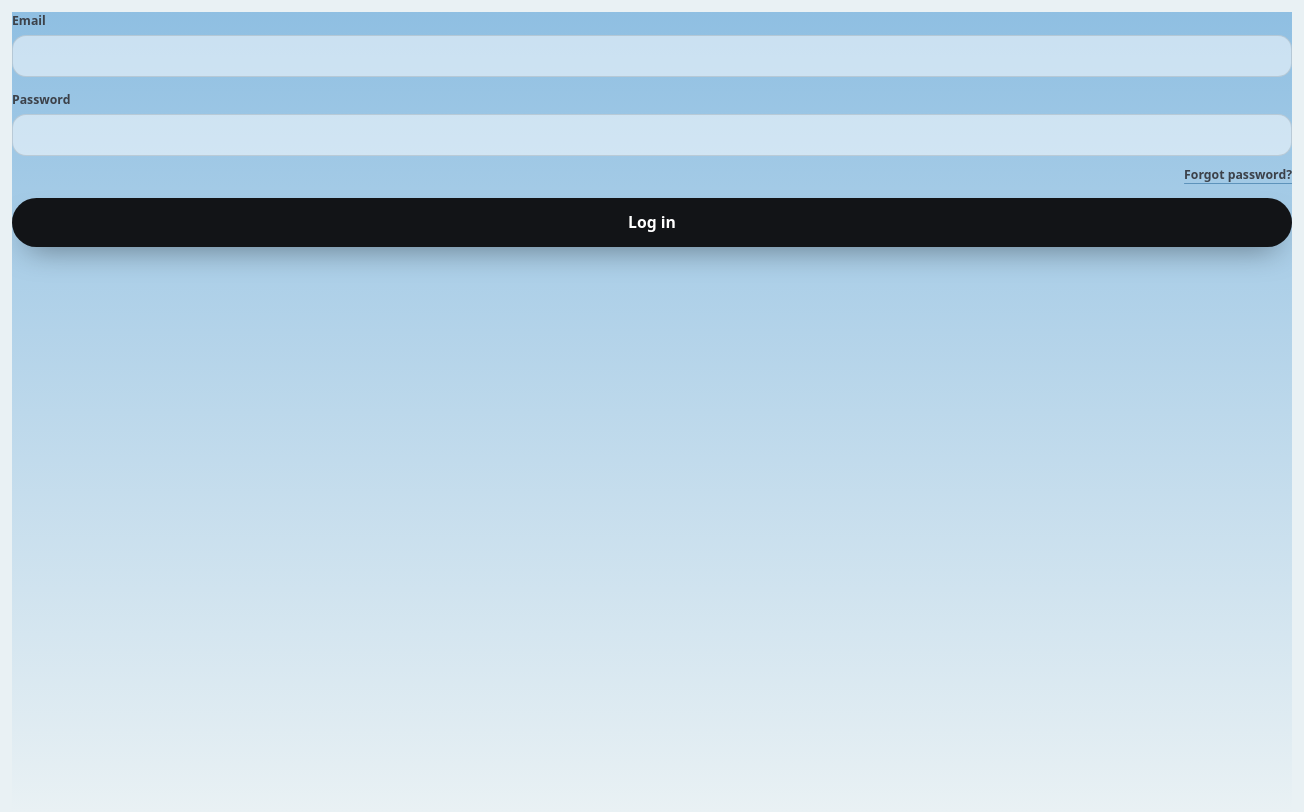
Scenario: LoginForm › logs in and follows a safe ?next= path
Type "demo@tripwise.app" into the field labelled "Email". click: point(652, 56)
box: [12,35,1292,77]
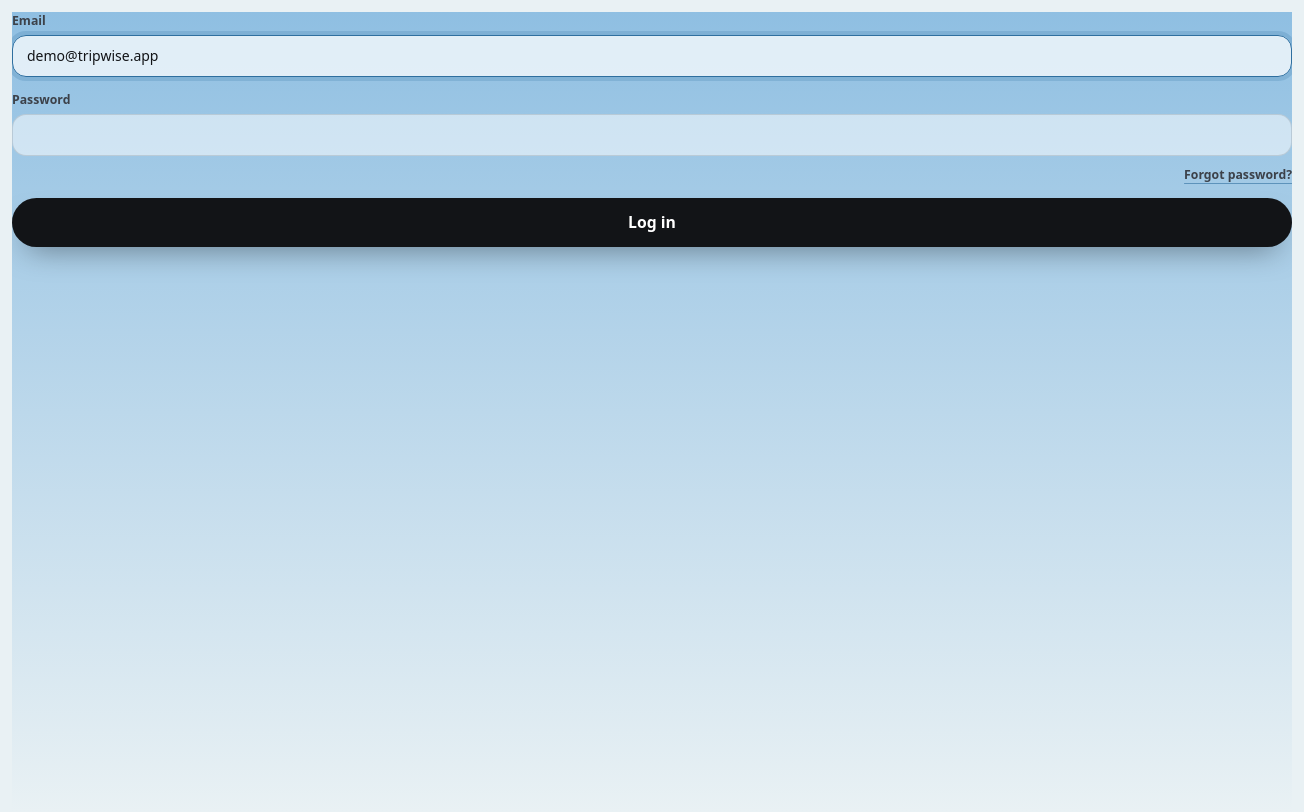
Type "password123" into the password field labelled "Password". click: point(652, 134)
box: [12,114,1292,156]
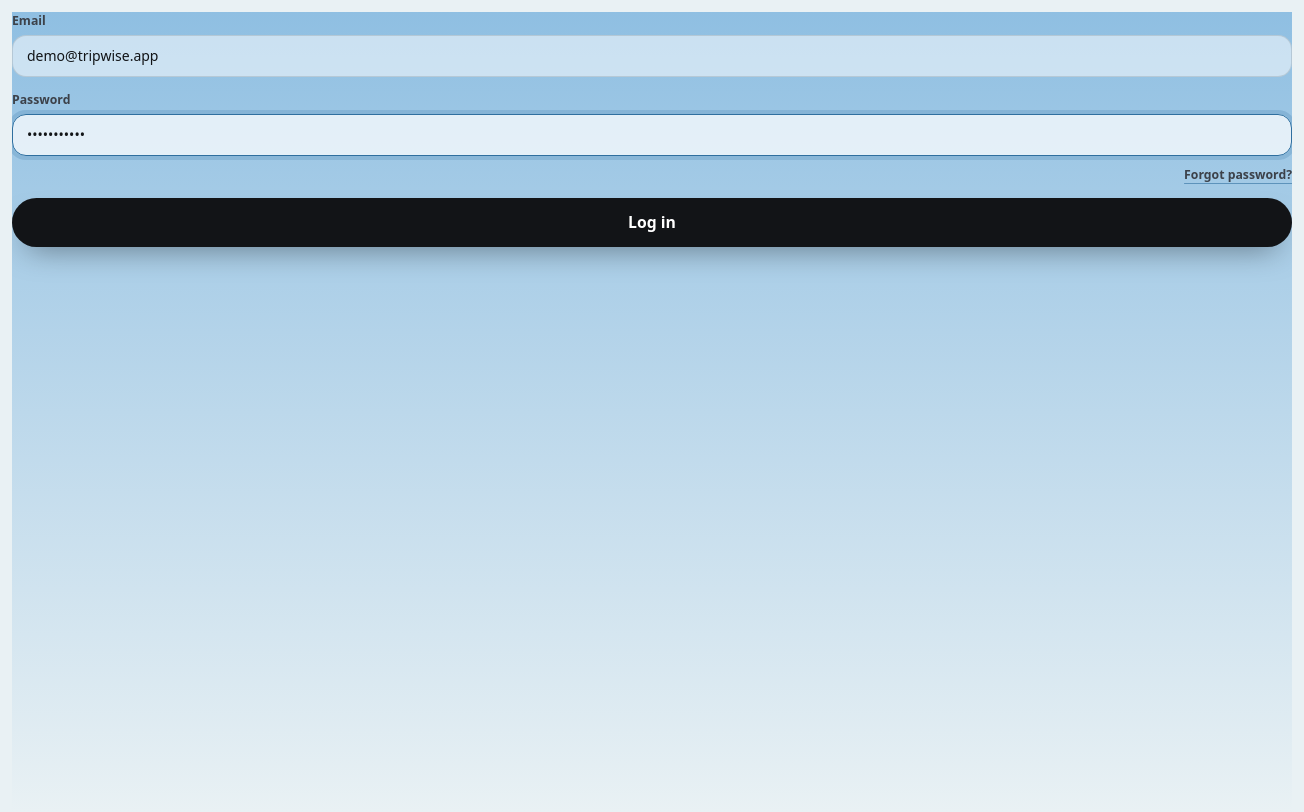
Click the button "Log in". click: point(652, 222)
box: [12,198,1292,246]
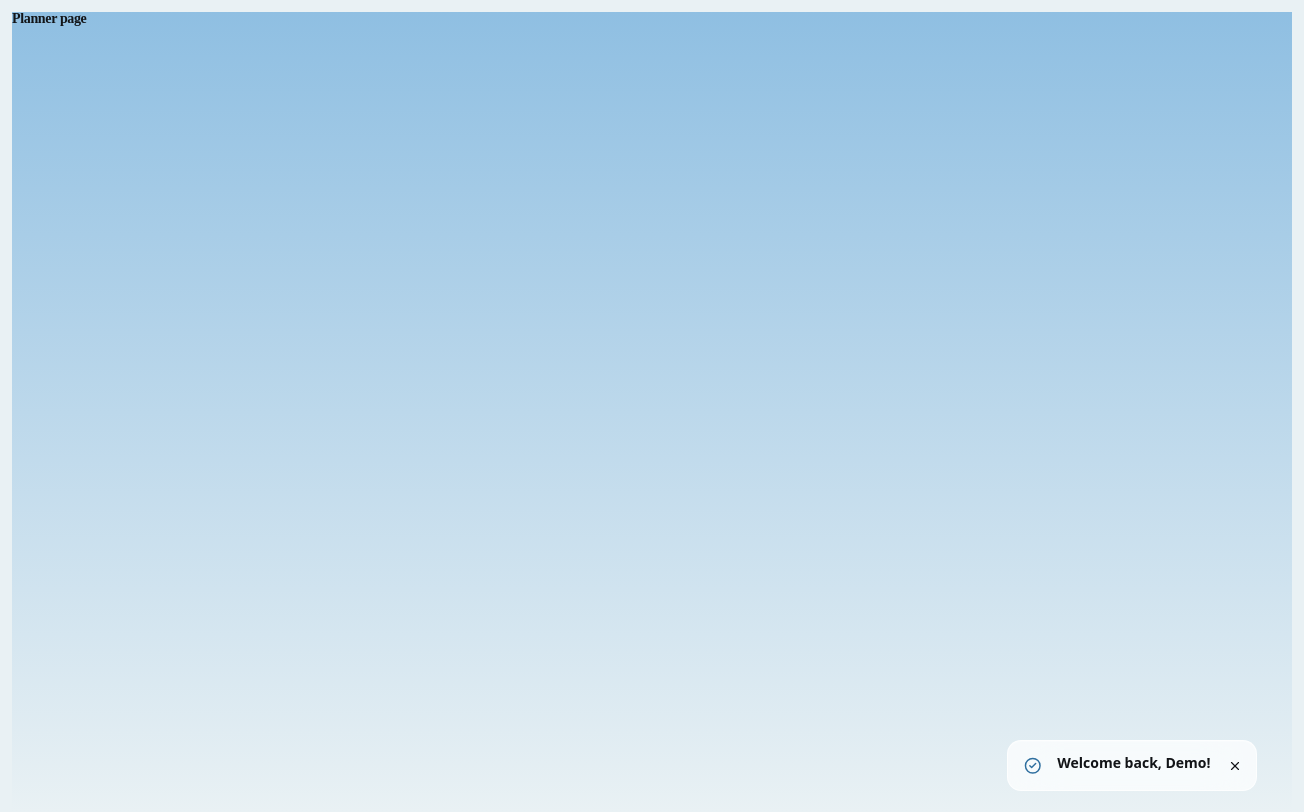
Expected: the heading "Planner page" is shown, [12,11,86,26]
